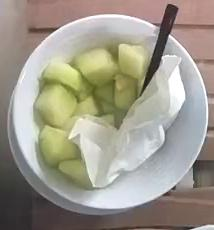fruit: (34, 43, 149, 187)
